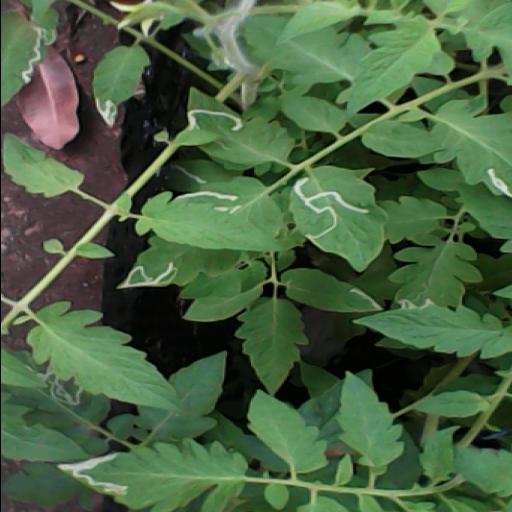disease_tomato: (52, 438, 248, 512), (287, 166, 389, 274), (110, 238, 237, 298)
